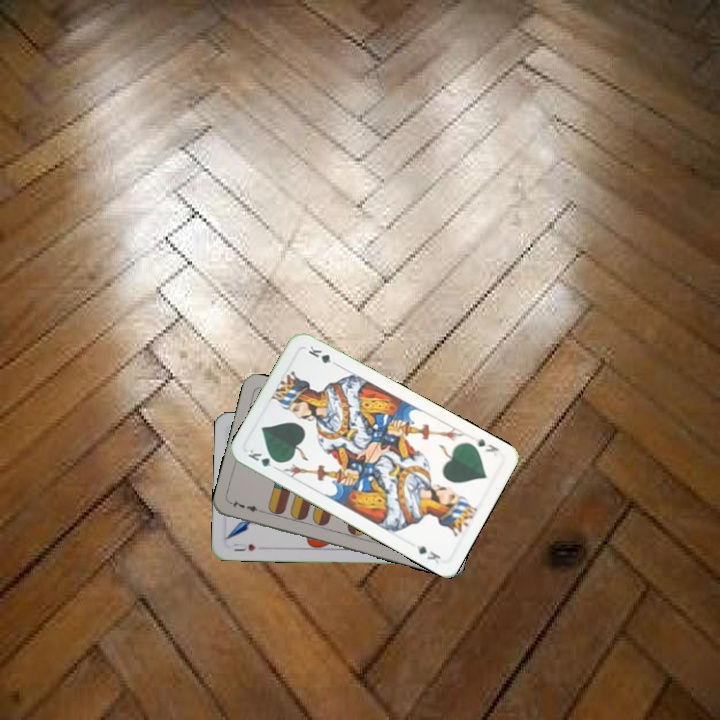E7: (227, 496, 267, 516)
GK: (244, 445, 283, 469), (469, 434, 501, 459)
HU: (229, 539, 258, 554)
